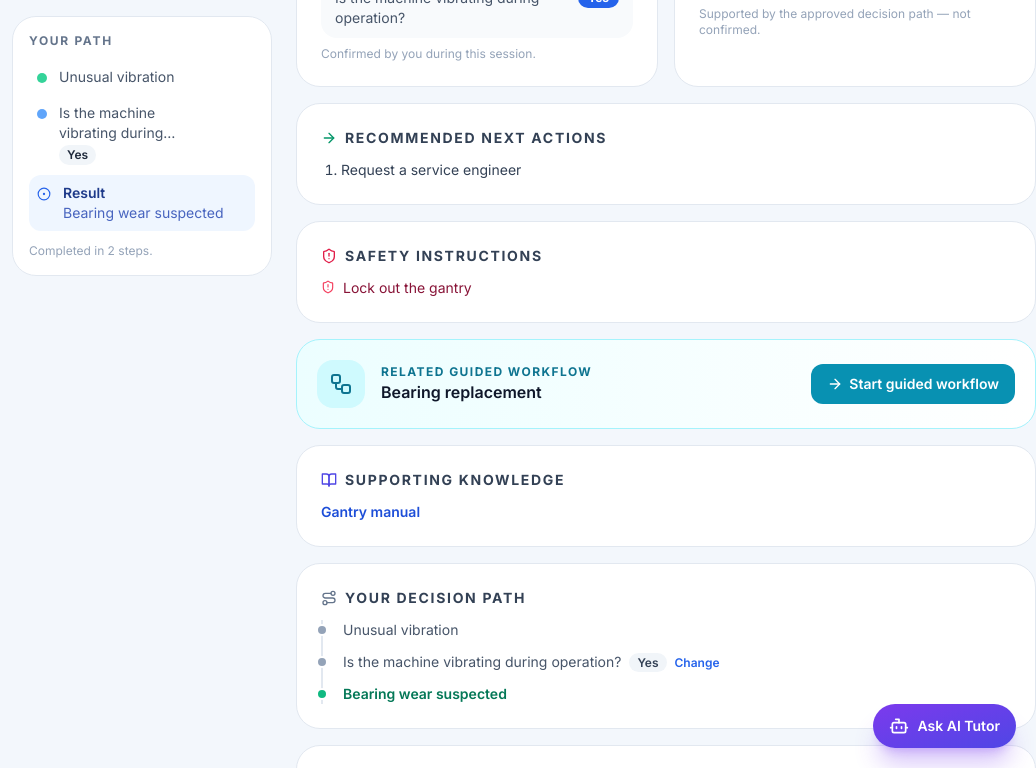
Trainee guided troubleshooting › shows a final report that separates observations from possible causes
The width and height of the screenshot is (1036, 768).
(page scrolled)
Click the button "Start guided workflow" at (913, 384), box [811,364,1015,404]
(page scrolled)
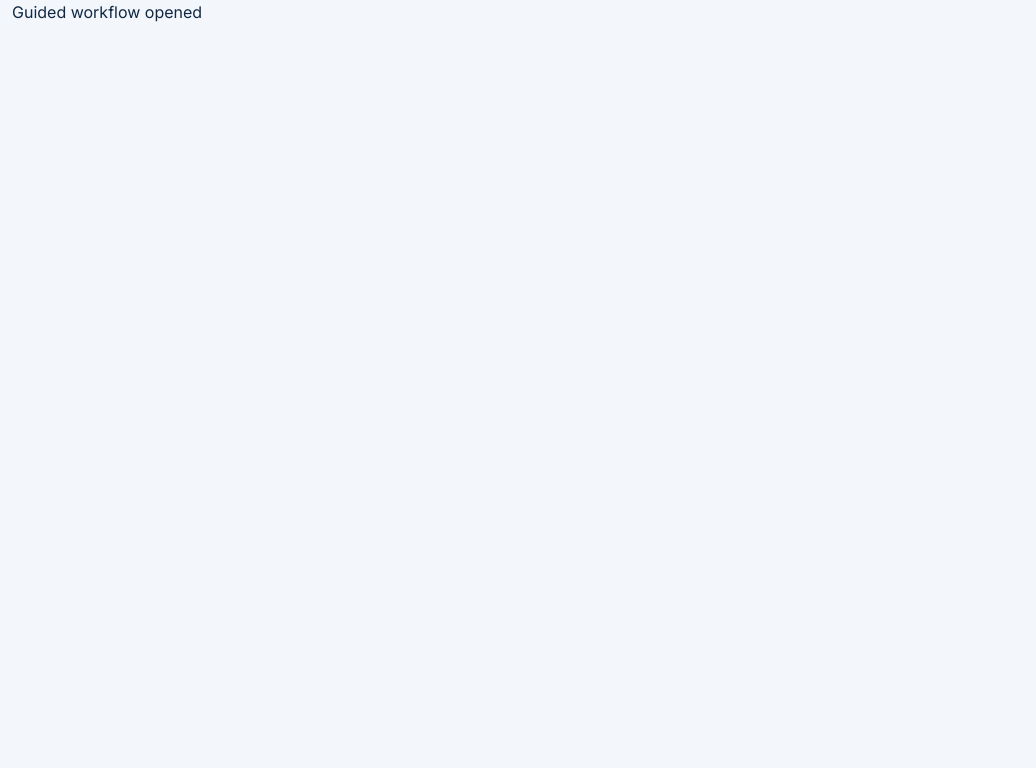
expect the text "Guided workflow opened" is shown: met, box [12,2,202,22]
